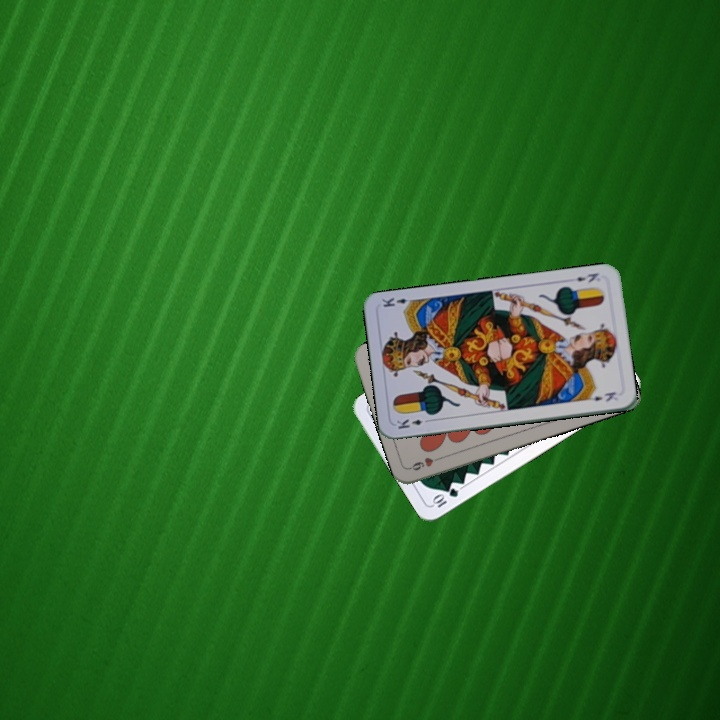EK: (392, 415, 433, 432), (565, 269, 601, 285)
G10: (427, 484, 461, 510)
H9: (406, 452, 445, 473)
